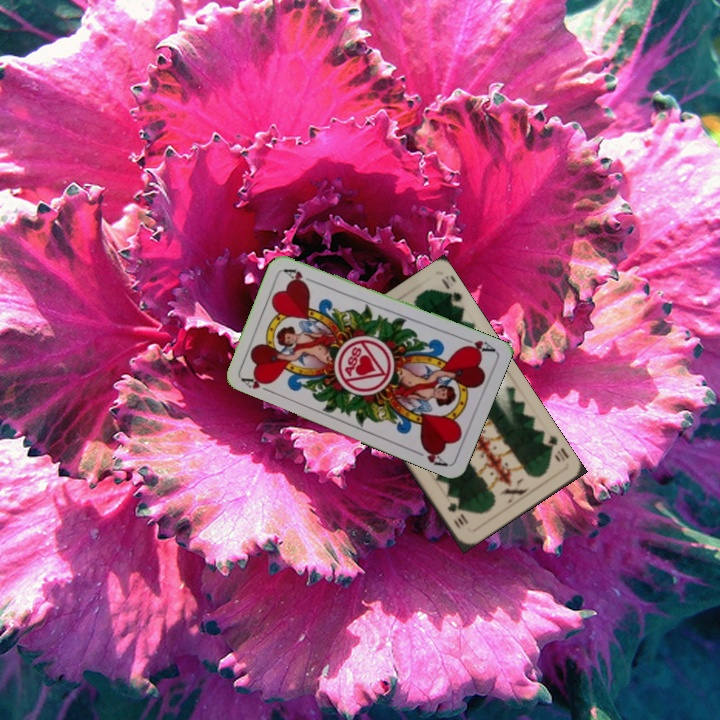G10: (538, 431, 571, 464)
HA: (458, 333, 497, 356), (238, 374, 277, 396)
